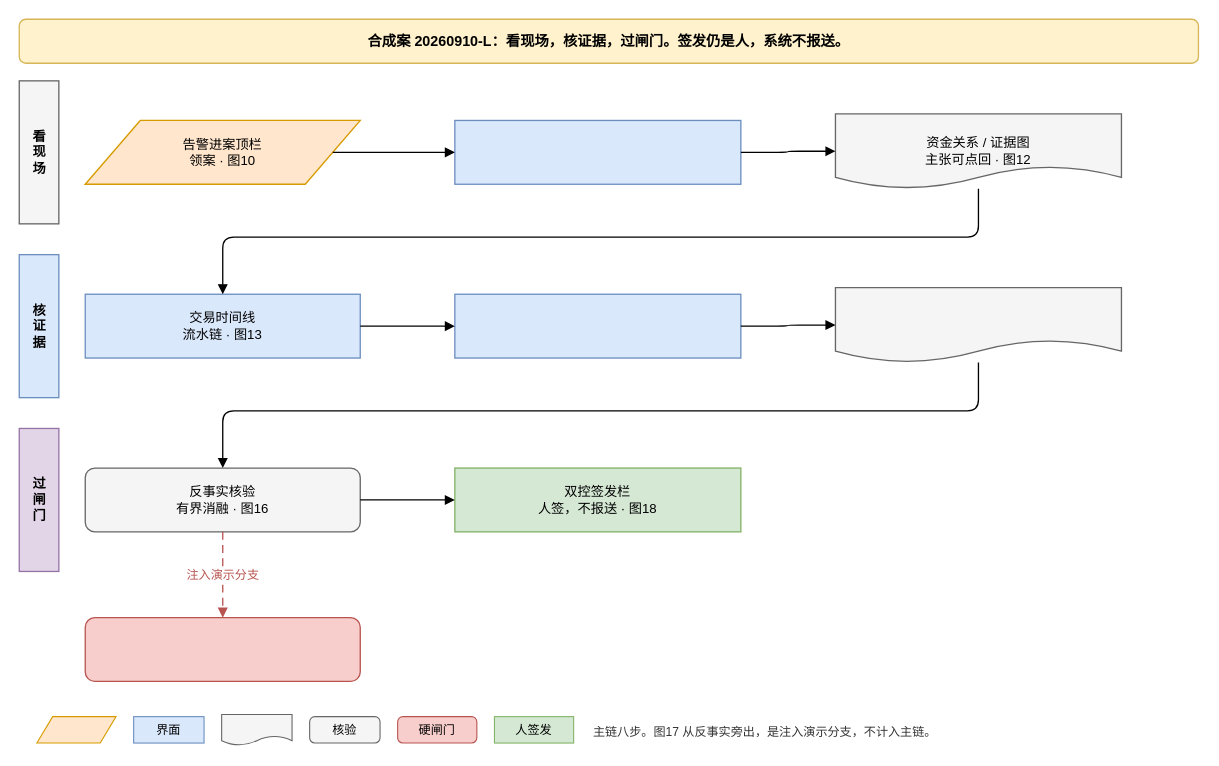
Some shapes in this 1219 by 766 pixel diagram are drawn without their labels. Each missing label, with the centre of its shape:
三栏工作台 规则 / AI / 护栏 · 图11: (597,151)
幻觉阻断 账外账号不可签发 · 图17: (222,649)
待补证清单 缺证即列出 · 图15: (978,324)
点编号回查 回到原始流水 · 图14: (597,325)
证据: (256,729)
输入: (76,729)
